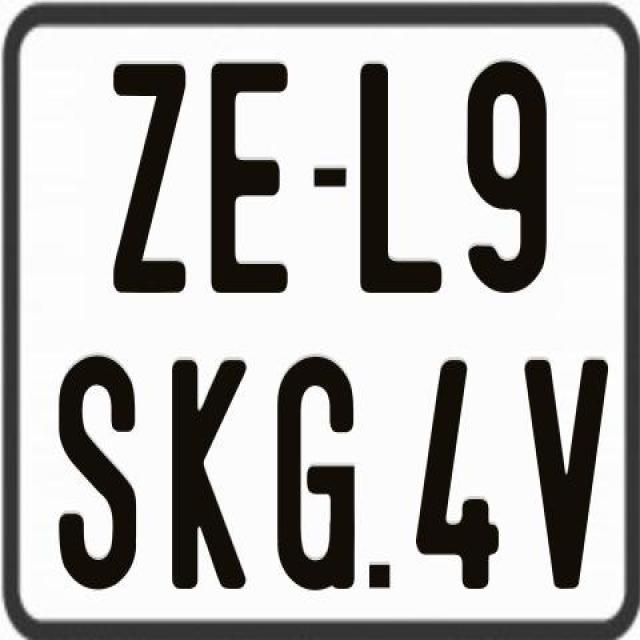4: (413, 356, 496, 588)
9: (466, 61, 548, 294)
E: (207, 58, 284, 298)
G: (273, 355, 351, 595)
K: (168, 358, 247, 590)
L: (358, 61, 442, 296)
S: (55, 351, 134, 588)
V: (522, 360, 606, 590)
Z: (112, 63, 190, 294)
